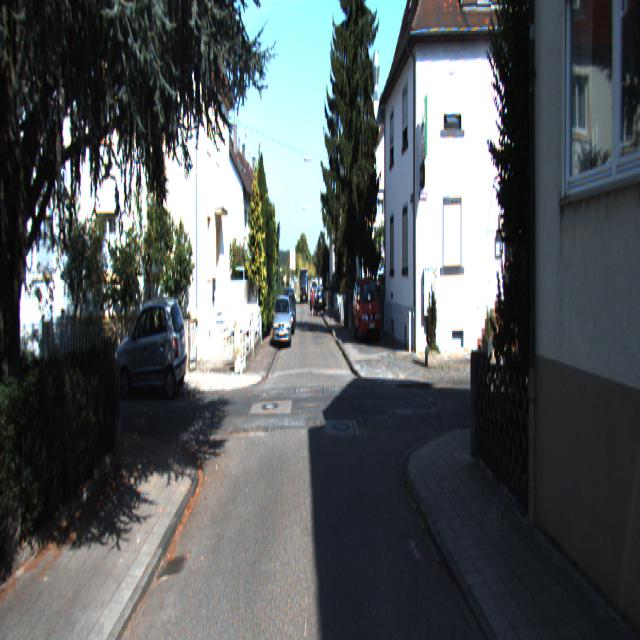Car: (114, 297, 188, 401), (353, 276, 382, 346), (274, 297, 290, 352)
